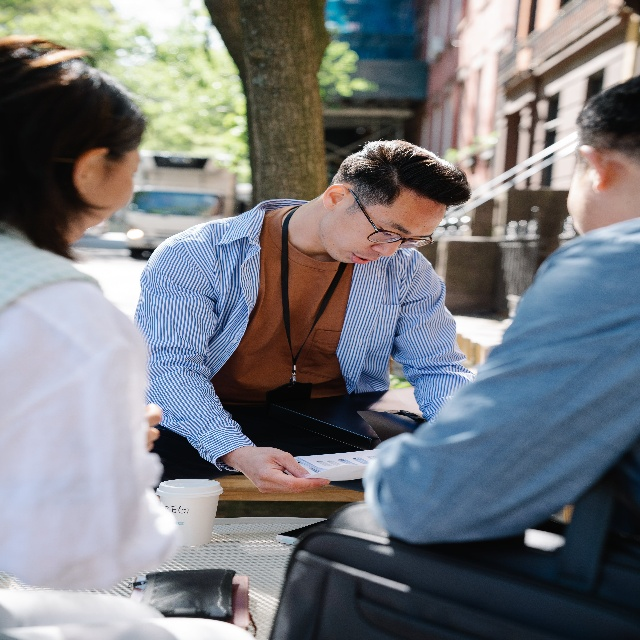Gafas: (365, 220, 433, 251)
Sin_guantes: (233, 446, 329, 496)
